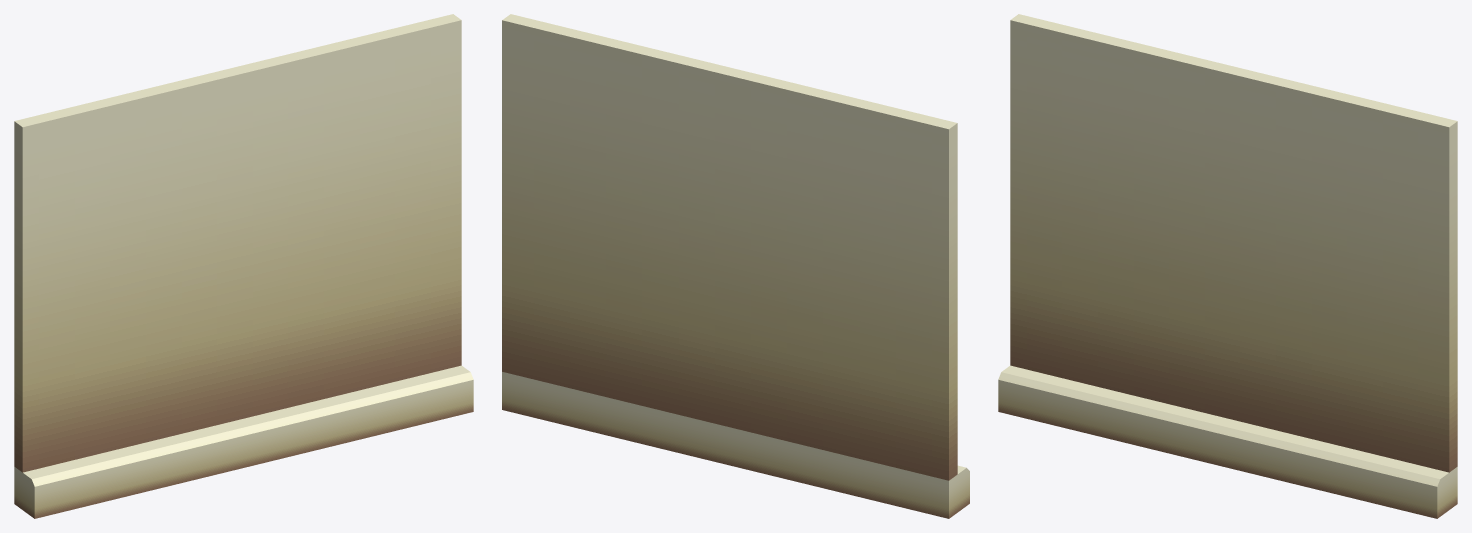
File: Wall_painted_01.fbx
3 renders of one model, left to right at view 1: azimuth 30°, elevation 25°; view 2: azimuth 150°, elevation 25°; view 3: azimuth 330°, elevation 25°, orthographic.
Visible parts, largest first — view 1: Wall_painted_01; view 2: Wall_painted_01; view 3: Wall_painted_01.
Part boxes in pixels (bbox=[...]): Wall_painted_01: bbox=[14, 14, 473, 518]; Wall_painted_01: bbox=[502, 14, 969, 518]; Wall_painted_01: bbox=[998, 14, 1457, 518].
Size of the model in its own units: 6 by 5 by 0.4844.
1 material, 1 textured.
